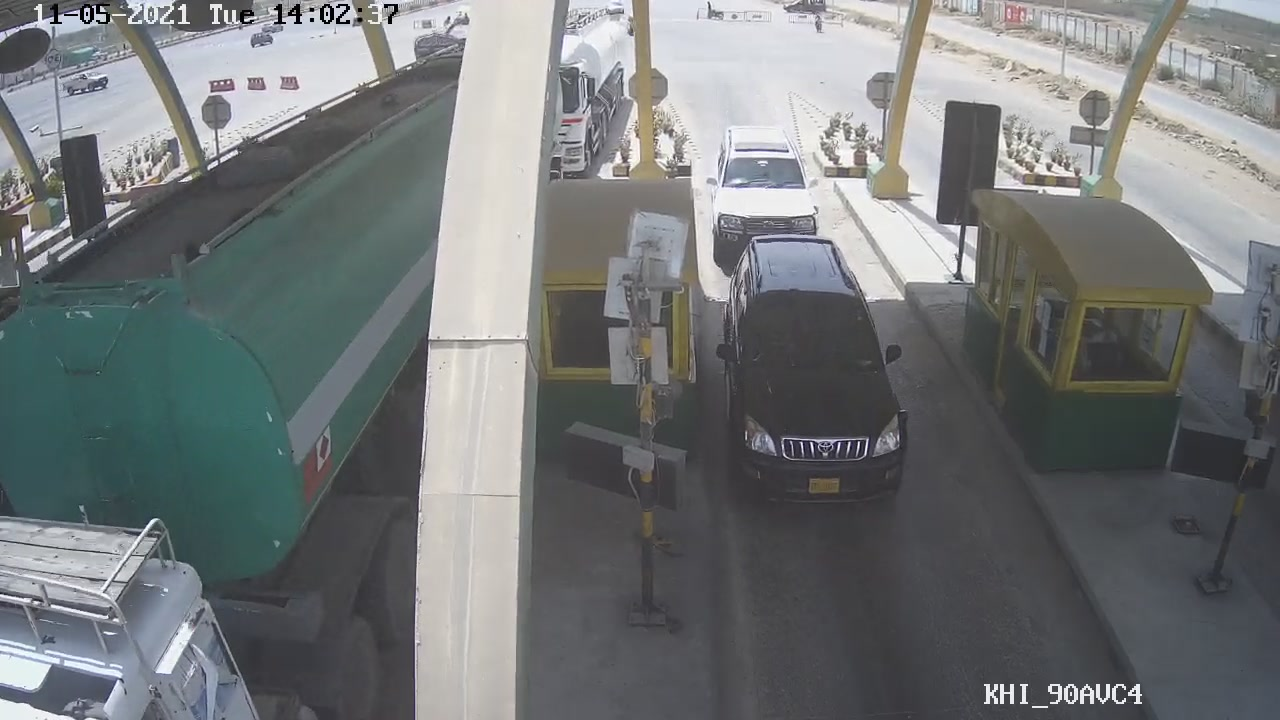F1: (705, 223, 916, 513)
